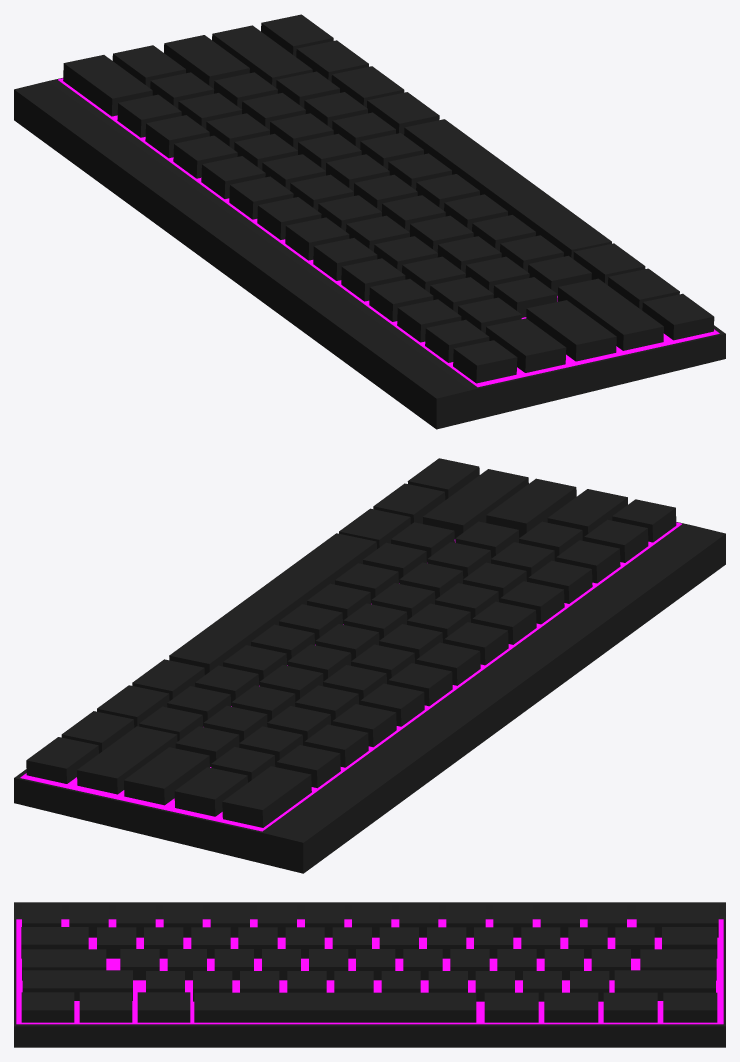
The model's file is Keyboard.fbx.
3 views of the same model, one above another, from view 1: azimuth 30°, elevation 25°; view 2: azimuth 150°, elevation 25°; view 3: azimuth 270°, elevation 25° (orthographic). The views are drawn at different scales.
Parts seen in each view (by area): view 1: Board, Cube.074, Cube.075, Cube.079, Cube.082, Cube.086, Cube.085, Cube.087, Cube.083, Cube.080, Cube.076, Backlight (+4 smaller); view 2: Board, Cube.074, Cube.075, Cube.079, Cube.082, Cube.086, Cube.085, Cube.087, Cube.076, Cube.084, Cube.083, Backlight (+4 smaller); view 3: Board, Cube.074, Cube.075, Cube.079, Backlight, Cube.082, Cube.086, Cube.085, Cube.087, Cube.083, Cube.084, Cube.076 (+4 smaller).
Boxes of the visible parts, left/top/right/bottom form: Board: left=14, top=78, right=725, bottom=429; Cube.074: left=117, top=94, right=517, bottom=383; Cube.075: left=150, top=72, right=521, bottom=333; Cube.079: left=214, top=72, right=557, bottom=317; Cube.082: left=276, top=71, right=591, bottom=295; Cube.086: left=404, top=119, right=611, bottom=258; Cube.085: left=261, top=14, right=439, bottom=134; Cube.087: left=573, top=243, right=714, bottom=340; Cube.083: left=557, top=278, right=663, bottom=350; Cube.080: left=526, top=300, right=616, bottom=361; Cube.076: left=63, top=55, right=152, bottom=116; Backlight: left=58, top=78, right=719, bottom=387; Board: left=14, top=522, right=725, bottom=873; Cube.074: left=276, top=499, right=676, bottom=788; Cube.075: left=211, top=521, right=582, bottom=782; Cube.079: left=175, top=521, right=519, bottom=766; Cube.082: left=139, top=522, right=454, bottom=741; Cube.086: left=169, top=533, right=376, bottom=674; Cube.085: left=26, top=659, right=204, bottom=783; Cube.087: left=339, top=458, right=479, bottom=548; Cube.076: left=222, top=766, right=311, bottom=827; Cube.084: left=77, top=726, right=177, bottom=794; Cube.083: left=423, top=469, right=528, bottom=538; Backlight: left=20, top=522, right=681, bottom=831; Board: left=14, top=902, right=725, bottom=1047; Cube.074: left=22, top=905, right=626, bottom=937; Cube.075: left=97, top=927, right=654, bottom=958; Cube.079: left=120, top=949, right=630, bottom=980; Backlight: left=16, top=919, right=723, bottom=1024; Cube.082: left=146, top=971, right=609, bottom=1001; Cube.086: left=194, top=992, right=476, bottom=1022; Cube.085: left=484, top=992, right=717, bottom=1022; Cube.087: left=21, top=992, right=190, bottom=1022; Cube.083: left=22, top=970, right=132, bottom=1000; Cube.084: left=614, top=970, right=715, bottom=1000; Cube.076: left=636, top=905, right=718, bottom=937.
Bounding box in the file's own units: 13.29 × 2.16 × 33.59.
